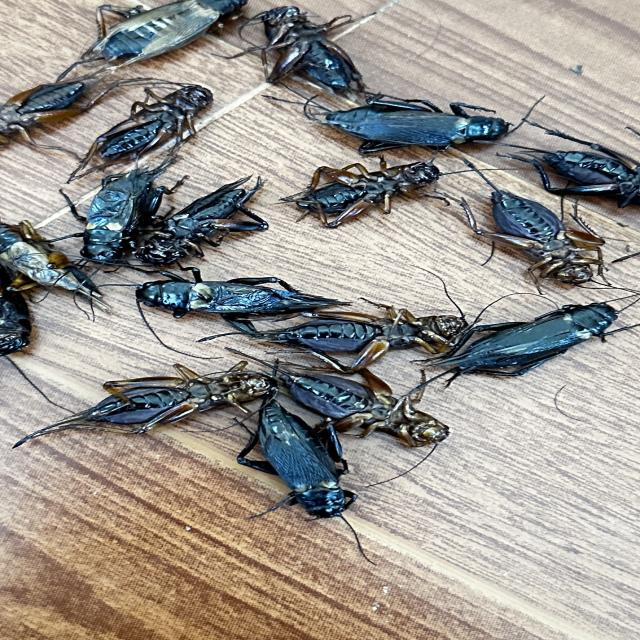egg: (36, 361, 274, 433), (280, 374, 449, 447), (256, 393, 354, 518), (260, 311, 466, 365), (490, 189, 604, 285), (322, 97, 512, 152), (81, 167, 169, 263), (512, 150, 640, 208), (86, 384, 193, 427)
no_egg: (427, 304, 617, 377), (72, 85, 212, 178), (133, 178, 269, 265), (285, 161, 440, 228), (259, 6, 365, 100), (88, 0, 247, 62), (0, 222, 99, 298), (137, 280, 339, 317), (0, 81, 84, 141), (0, 263, 32, 353)
